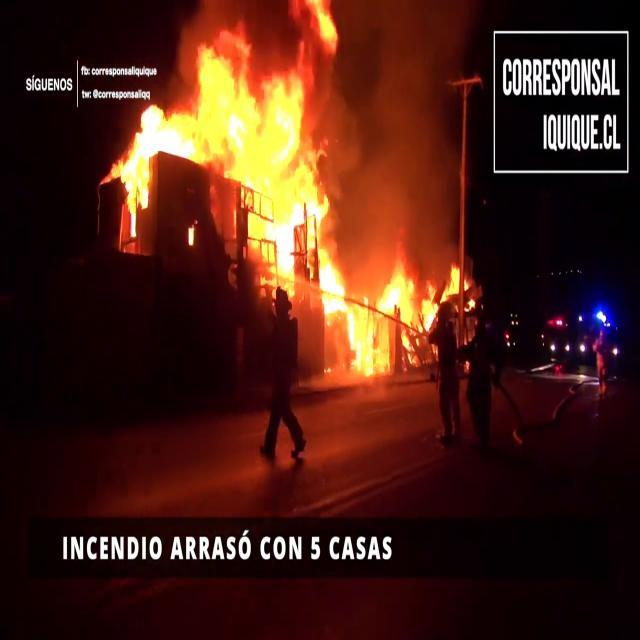Fire: (105, 8, 353, 278), (282, 240, 462, 378)
Smoke: (324, 0, 478, 243)
